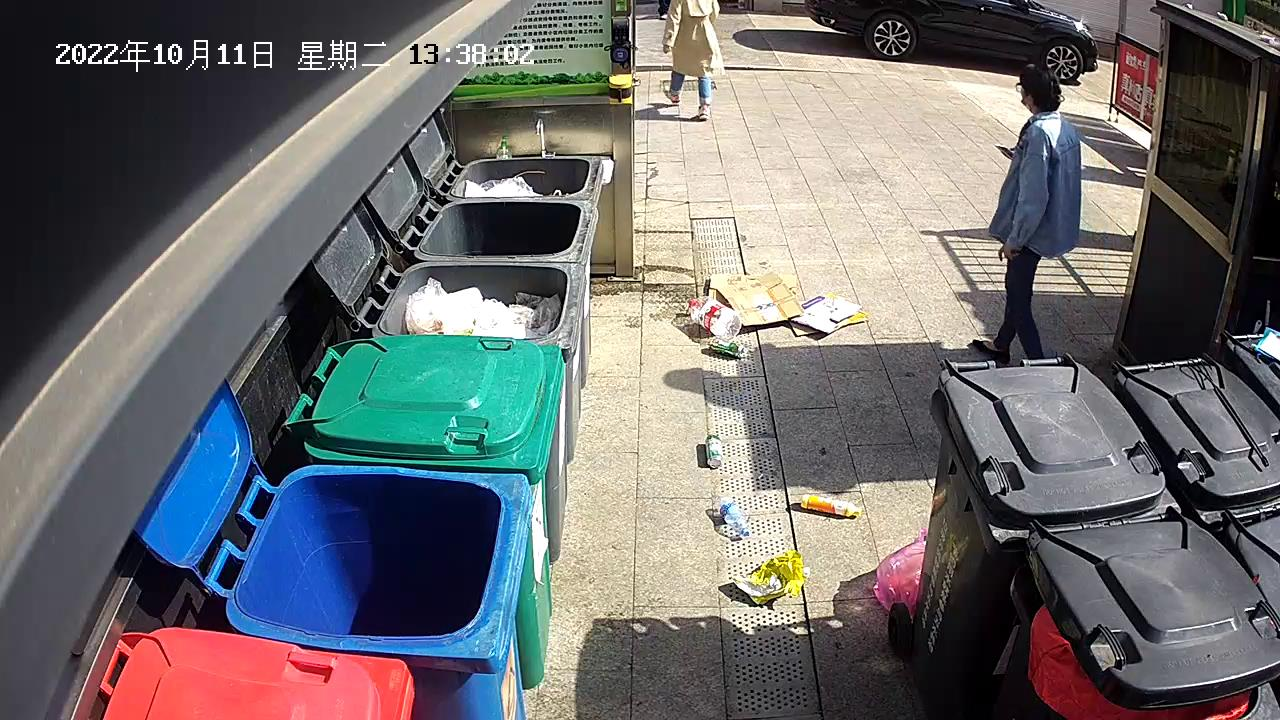garbage: (727, 548, 811, 606)
garbage-bag: (868, 525, 936, 612)
lvzhipin: (704, 334, 752, 362), (702, 431, 726, 472)
suliaozhipin: (683, 290, 749, 344), (797, 488, 866, 526), (715, 495, 757, 540)
worker: (967, 60, 1093, 364)
zhizhipin: (700, 266, 806, 328), (784, 289, 875, 337)
